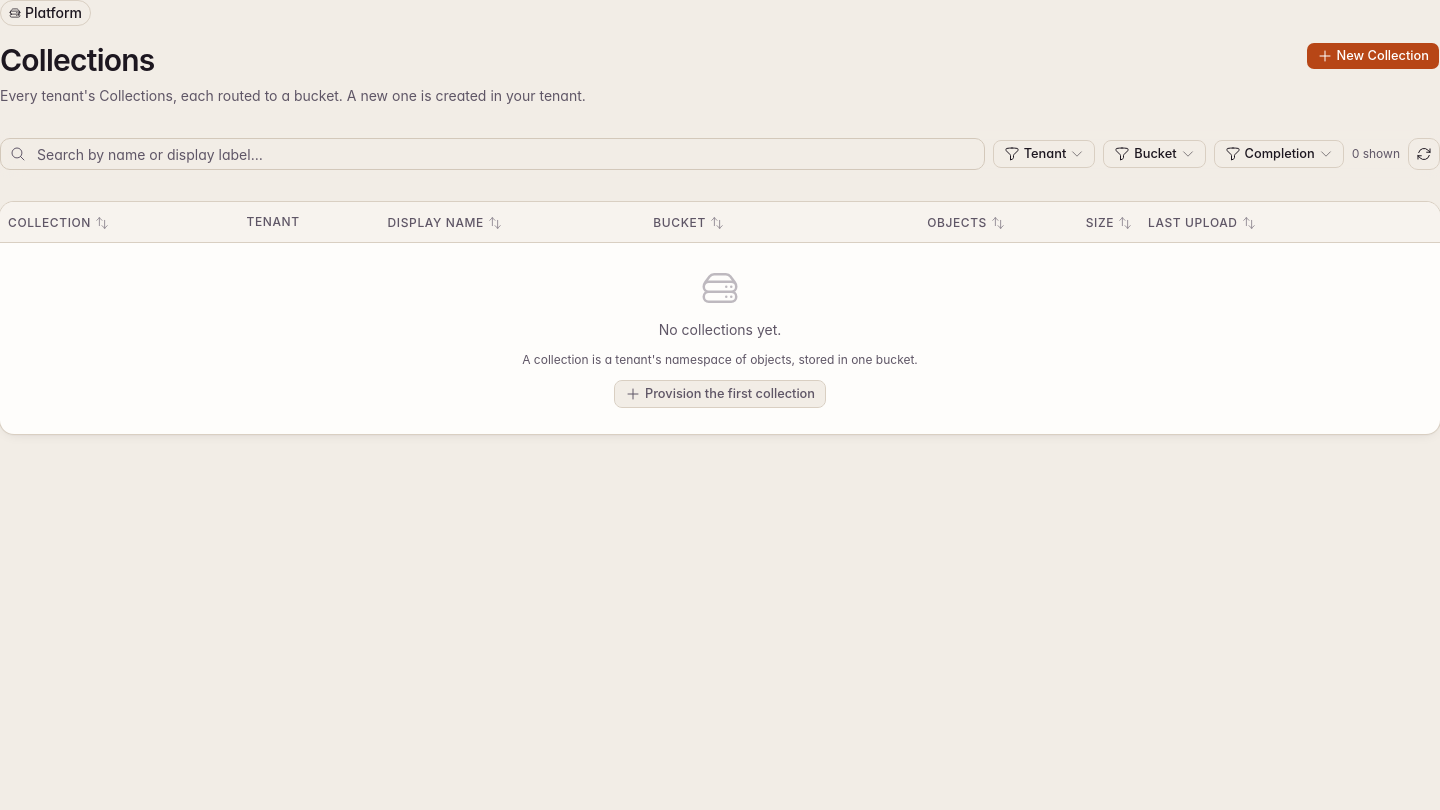
Test: CollectionsPage › opens the provision dialog from the header action
This screenshot has width=1440, height=810.
Click the button "New Collection". click: coordinates (1373, 56)
box: [1306,42,1439,70]
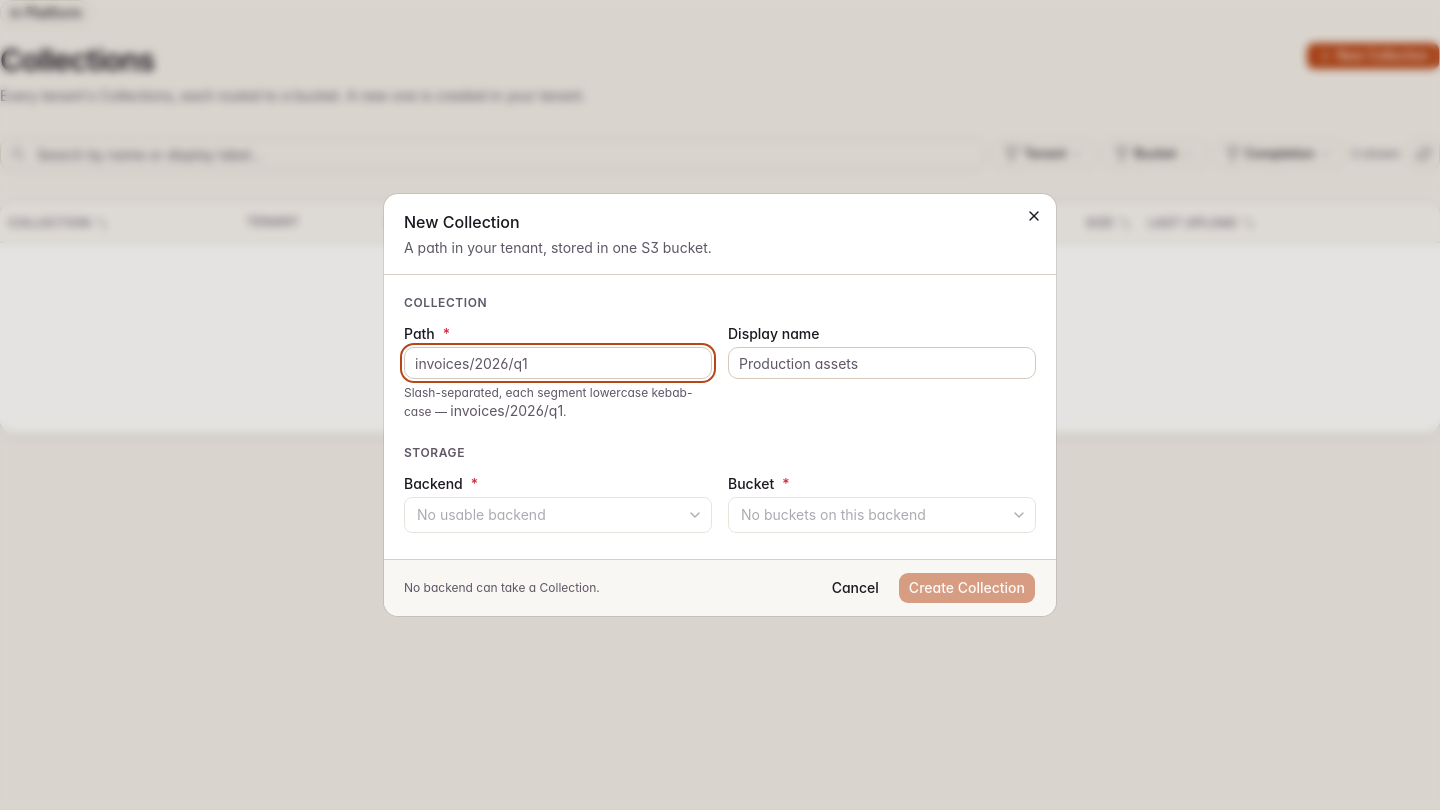
Check: the dialog "New Collection" is shown, box [384,194,1056,616]
